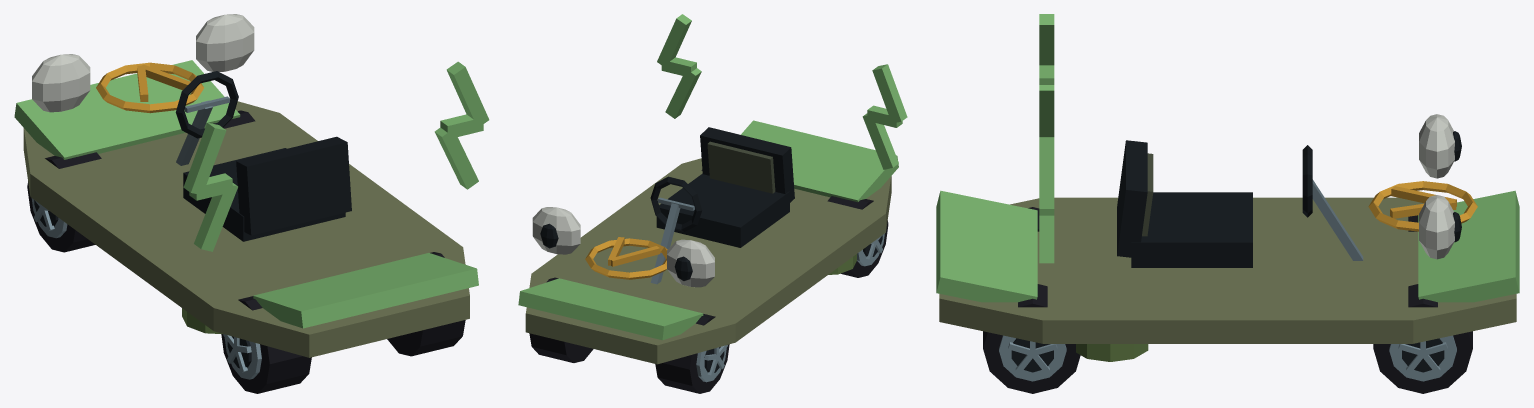
File: kart.glb
The picture shows the model from 3 angles, left to right: view 1: azimuth 30°, elevation 25°; view 2: azimuth 150°, elevation 25°; view 3: azimuth 270°, elevation 25°; orthographic projection. The views are drawn at different scales.
Parts seen in each view (by area): view 1: identity-hoverboard-hoverboard-turned-up-deck, identity-hoverboard-driver-cockpit, identity-hoverboard-motif-electric, identity-hoverboard-motif-eyes, wheel-rear-left, identity-hoverboard-motif-lambda, wheel-front-left, wheel-rear-right; view 2: identity-hoverboard-hoverboard-turned-up-deck, identity-hoverboard-driver-cockpit, identity-hoverboard-motif-electric, identity-hoverboard-motif-eyes, wheel-front-left, identity-hoverboard-motif-lambda, wheel-rear-left, wheel-front-right; view 3: identity-hoverboard-hoverboard-turned-up-deck, identity-hoverboard-driver-cockpit, wheel-front-right, wheel-rear-right, identity-hoverboard-motif-eyes, identity-hoverboard-motif-electric, identity-hoverboard-motif-lambda.
Boxes of the visible parts, x1,y1,x2,y2 form: identity-hoverboard-hoverboard-turned-up-deck: (14, 60, 478, 357); identity-hoverboard-driver-cockpit: (175, 71, 351, 241); identity-hoverboard-motif-electric: (183, 61, 489, 251); identity-hoverboard-motif-eyes: (32, 14, 254, 112); wheel-rear-left: (221, 296, 311, 393); identity-hoverboard-motif-lambda: (96, 62, 203, 113); wheel-front-left: (27, 152, 101, 252); wheel-rear-right: (387, 252, 465, 356); identity-hoverboard-hoverboard-turned-up-deck: (518, 120, 898, 364); identity-hoverboard-driver-cockpit: (650, 127, 794, 284); identity-hoverboard-motif-electric: (657, 14, 907, 169); identity-hoverboard-motif-eyes: (532, 207, 714, 287); wheel-front-left: (655, 314, 729, 393); identity-hoverboard-motif-lambda: (585, 237, 667, 279); wheel-rear-left: (827, 196, 888, 277); wheel-front-right: (529, 277, 593, 362); identity-hoverboard-hoverboard-turned-up-deck: (936, 190, 1519, 361); identity-hoverboard-driver-cockpit: (1117, 140, 1363, 267); wheel-front-right: (1373, 284, 1472, 393); wheel-rear-right: (983, 284, 1080, 393); identity-hoverboard-motif-eyes: (1419, 114, 1461, 259); identity-hoverboard-motif-electric: (1039, 14, 1054, 263); identity-hoverboard-motif-lambda: (1368, 181, 1477, 231).
Bounding box in the file's own units: 1.75 × 1.49 × 2.93.
